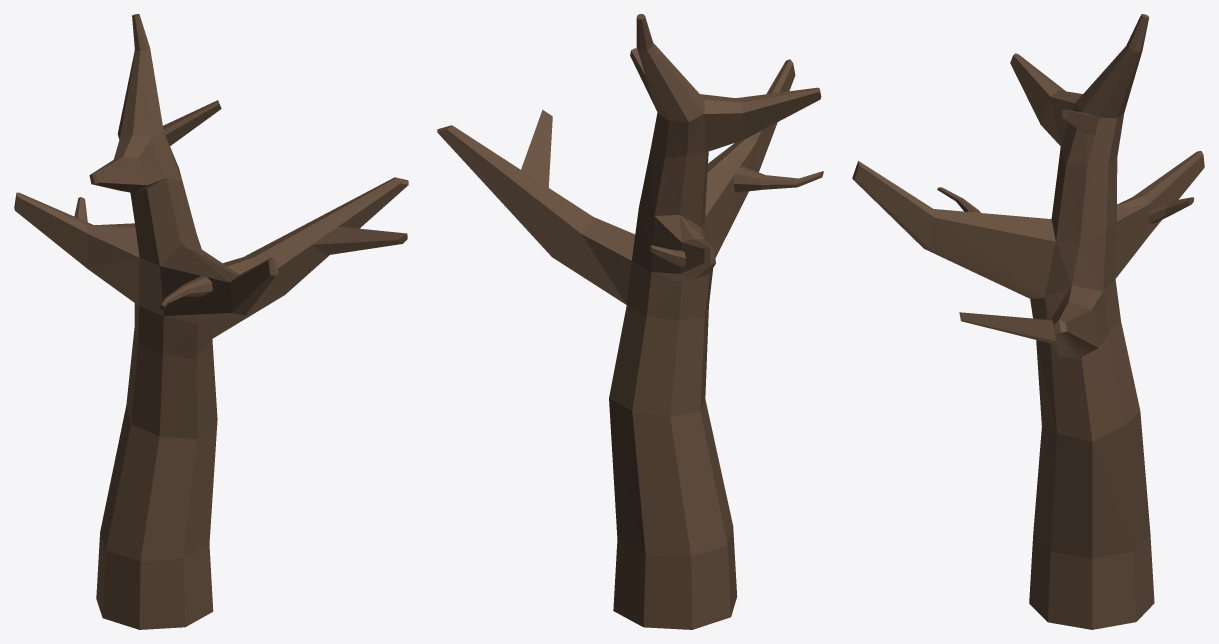
Rendered from Vegetation_Tree_Trunk_09.fbx.
3 views of the same model, side by side, from view 1: azimuth 30°, elevation 25°; view 2: azimuth 150°, elevation 25°; view 3: azimuth 270°, elevation 25° (orthographic). The views are drawn at different scales.
Visible parts, largest first — view 1: Vegetation_Tree_Trunk_09; view 2: Vegetation_Tree_Trunk_09; view 3: Vegetation_Tree_Trunk_09.
Part boxes in pixels (box(x1,y1,x2,y2)): Vegetation_Tree_Trunk_09: box(14, 14, 408, 629); Vegetation_Tree_Trunk_09: box(437, 14, 823, 629); Vegetation_Tree_Trunk_09: box(852, 14, 1204, 629).
Bounding box in the file's own units: 2389 × 3838 × 2072.
